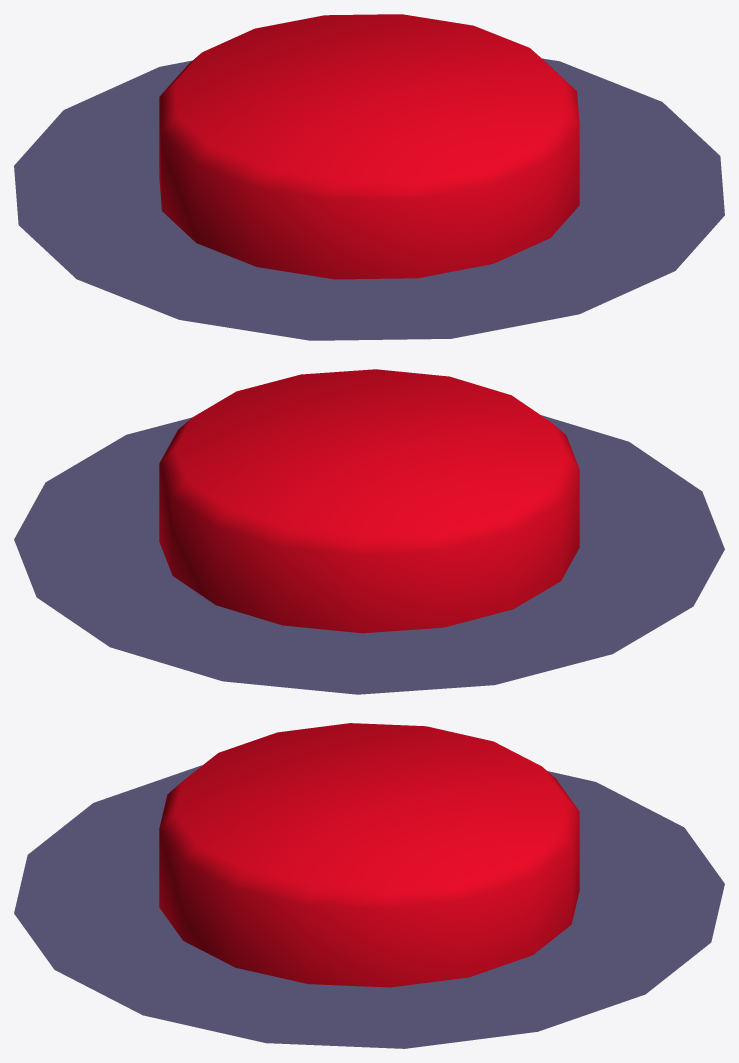
The model's file is Circular_Button.fbx.
3 renders of one model, top to bottom at view 1: azimuth 30°, elevation 25°; view 2: azimuth 150°, elevation 25°; view 3: azimuth 270°, elevation 25°, orthographic.
Visible parts, largest first — view 1: circular button.001, circular button; view 2: circular button.001, circular button; view 3: circular button.001, circular button.
Boxes of the visible parts, <box> form: circular button.001: <box>159,14,579,279</box>; circular button: <box>14,58,724,340</box>; circular button.001: <box>159,369,579,633</box>; circular button: <box>14,415,724,694</box>; circular button.001: <box>159,723,579,987</box>; circular button: <box>14,765,724,1048</box>.
Size of the model in its own units: 247 by 35.85 by 247.
